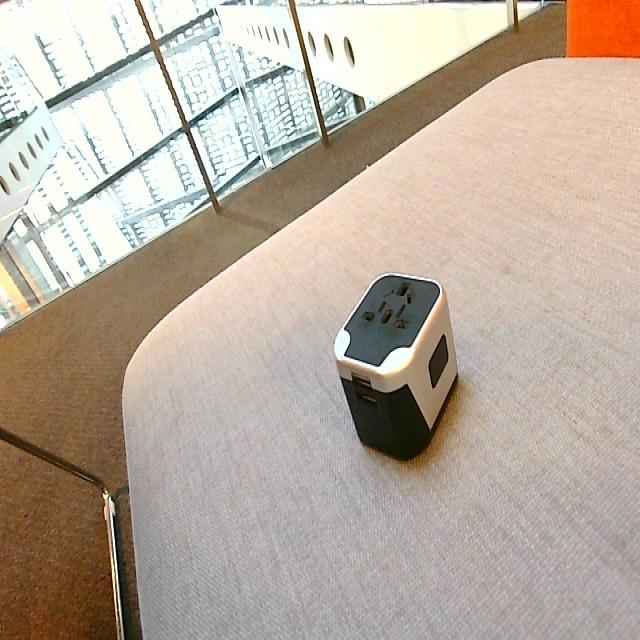adapter: (333, 271, 458, 461)
